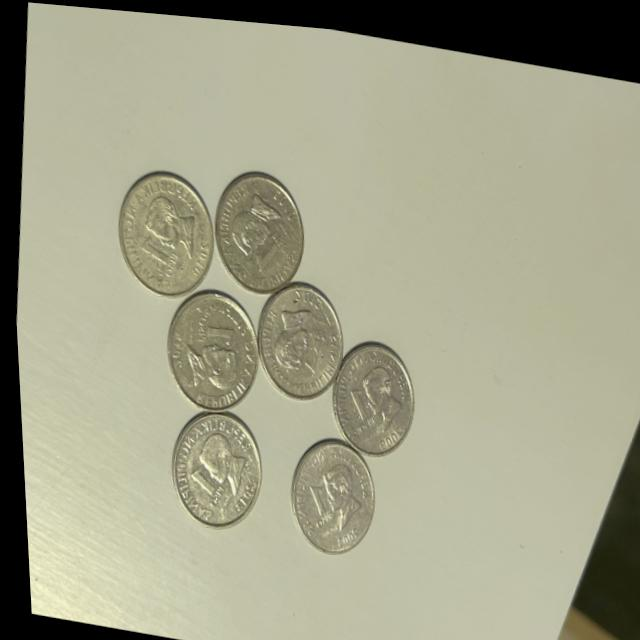1_Old_Front: (287, 469, 337, 537), (132, 230, 184, 283), (177, 457, 227, 512), (337, 374, 379, 432), (248, 221, 292, 273), (189, 303, 236, 350), (292, 318, 332, 371)
